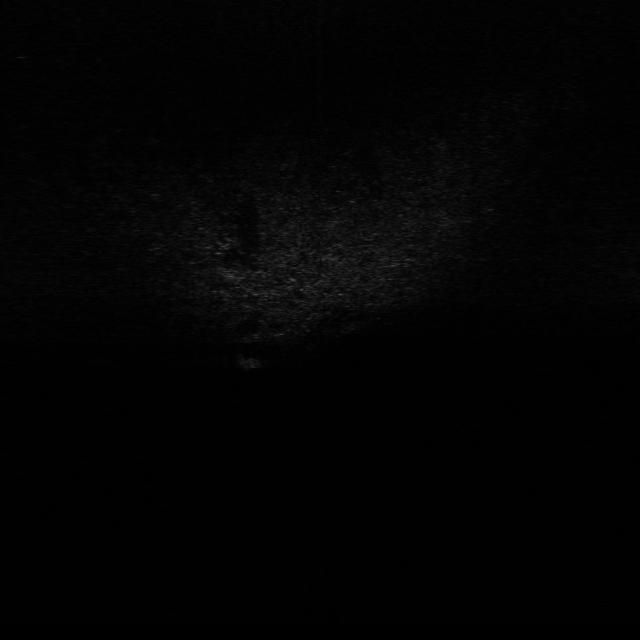cube: (233, 346, 268, 374)
